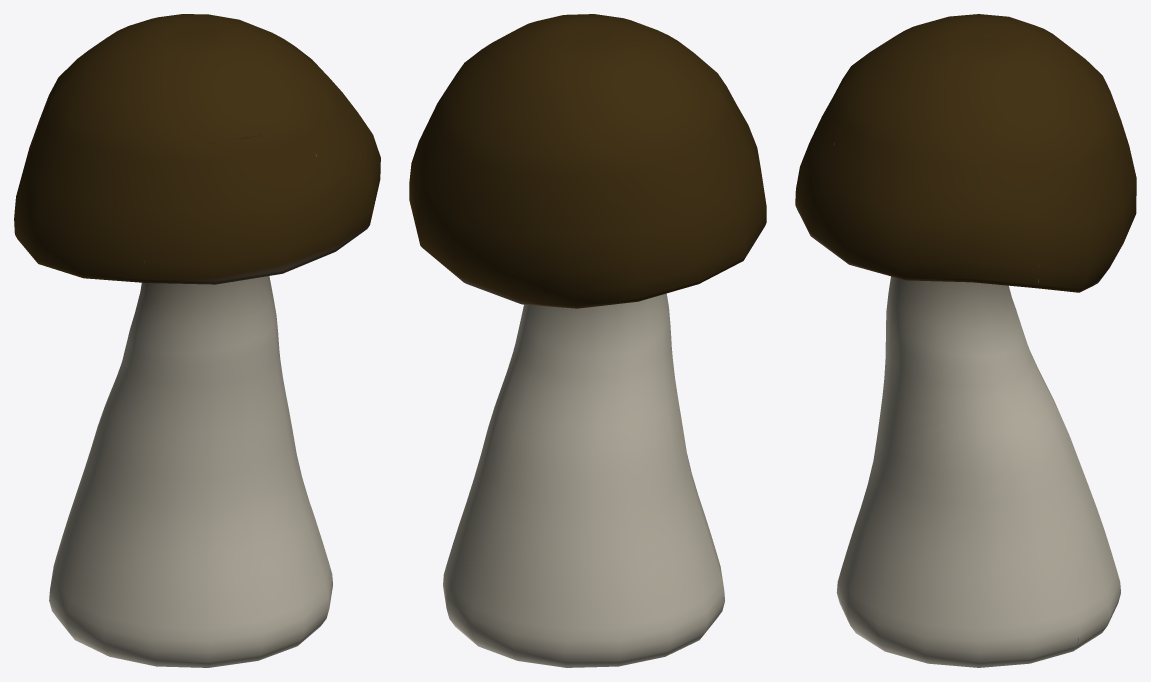
Rendered from Seta Gigante2.fbx.
3 views of the same model, side by side, from view 1: azimuth 30°, elevation 25°; view 2: azimuth 150°, elevation 25°; view 3: azimuth 270°, elevation 25° (orthographic).
Parts seen in each view (by area): view 1: Seta mediana1; view 2: Seta mediana1; view 3: Seta mediana1.
Part boxes in pixels (x1=…): Seta mediana1: x1=14, y1=14, x2=380, y2=667; Seta mediana1: x1=409, y1=14, x2=766, y2=667; Seta mediana1: x1=795, y1=14, x2=1136, y2=667.
Bounding box in the file's own units: 178 × 315 × 167.
